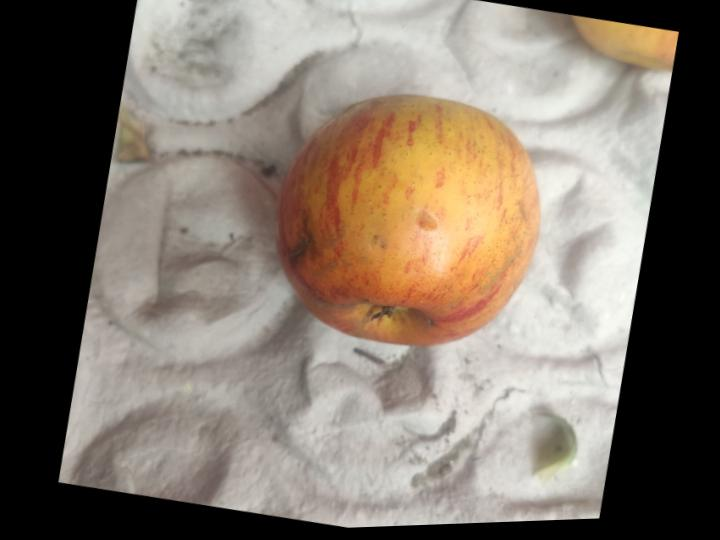apple: (277, 94, 539, 344)
bruise_discoloration: (478, 243, 523, 298), (320, 217, 346, 249), (312, 260, 336, 279), (342, 259, 354, 267)
surface_damage: (416, 207, 439, 230), (289, 235, 310, 257)
